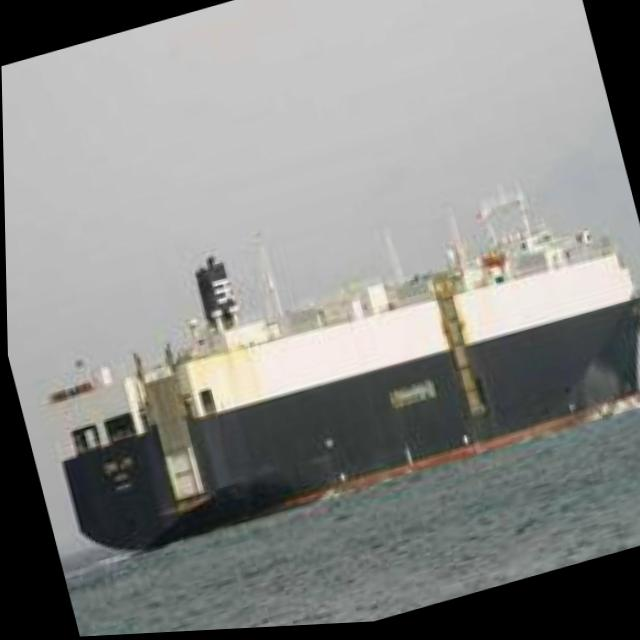ship2: (44, 196, 640, 556)
